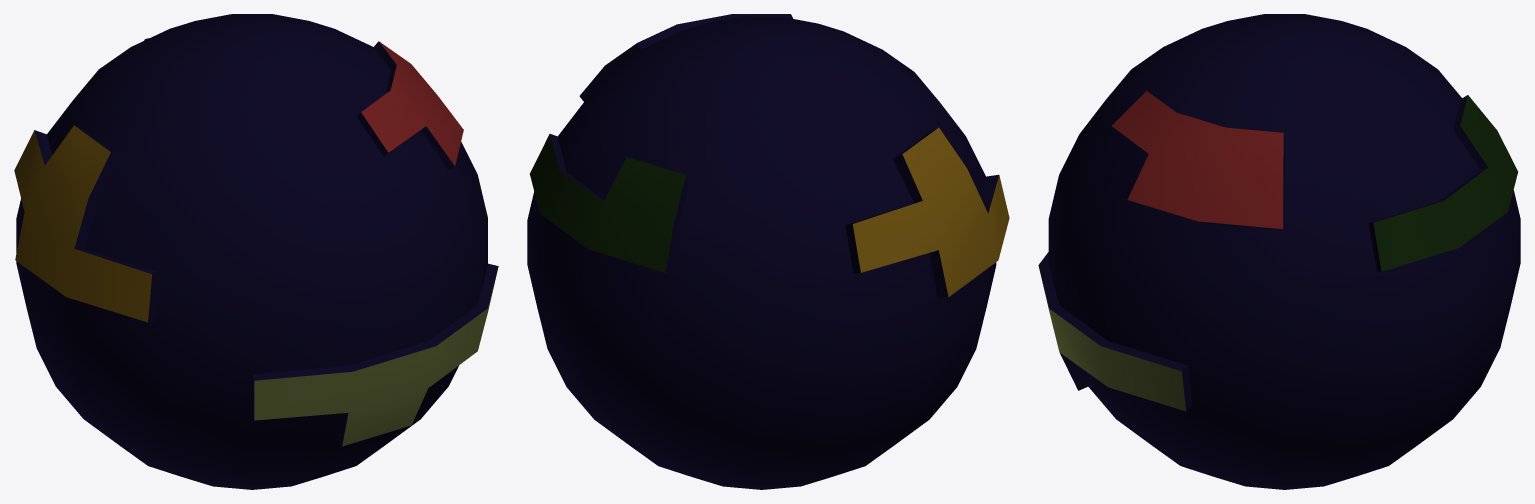
Rendered from Main Planet.dae.
3 renders of one model, left to right at view 1: azimuth 30°, elevation 25°; view 2: azimuth 150°, elevation 25°; view 3: azimuth 270°, elevation 25°, orthographic.
Parts seen in each view (by area): view 1: pSphere1; view 2: pSphere1; view 3: pSphere1.
Part boxes in pixels (left/top/right/bottom): pSphere1: left=14, top=14, right=498, bottom=489; pSphere1: left=527, top=14, right=1009, bottom=489; pSphere1: left=1038, top=14, right=1520, bottom=489.
Bounding box in the file's own units: 2.02 × 2 × 2.02.
